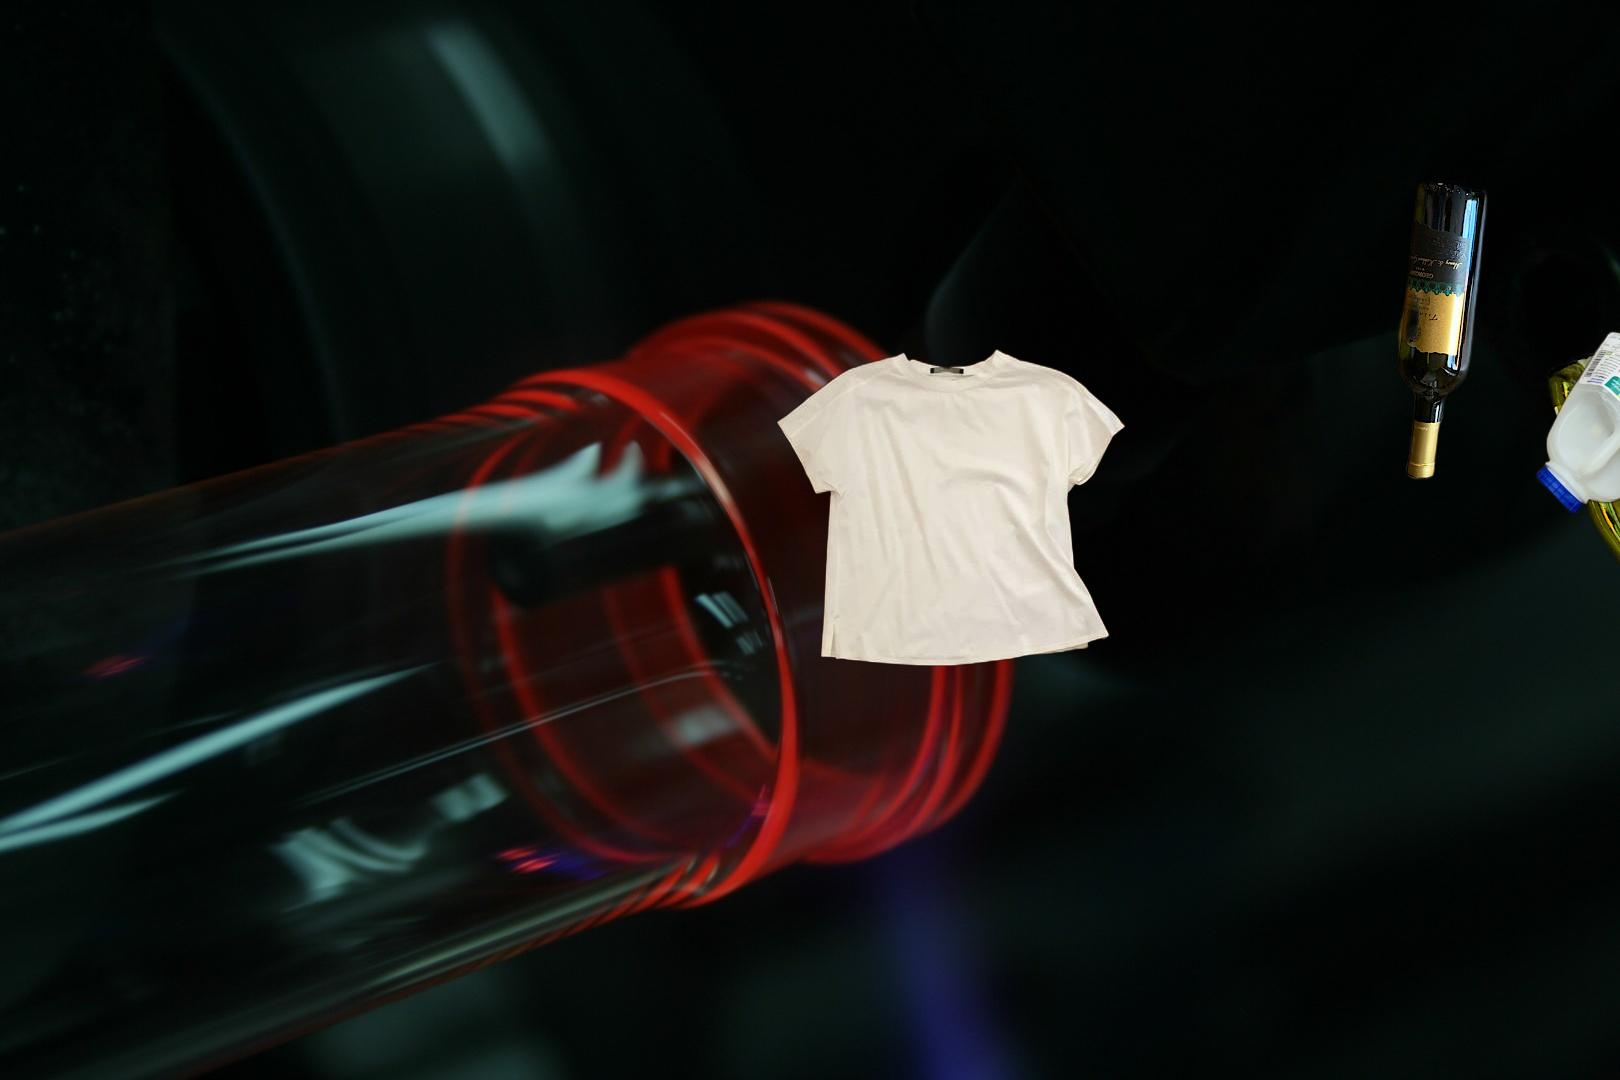clothes: (773, 344, 1127, 671)
glass: (1392, 113, 1620, 485), (1542, 340, 1620, 673)
plastic-bottles: (1532, 325, 1620, 520)
